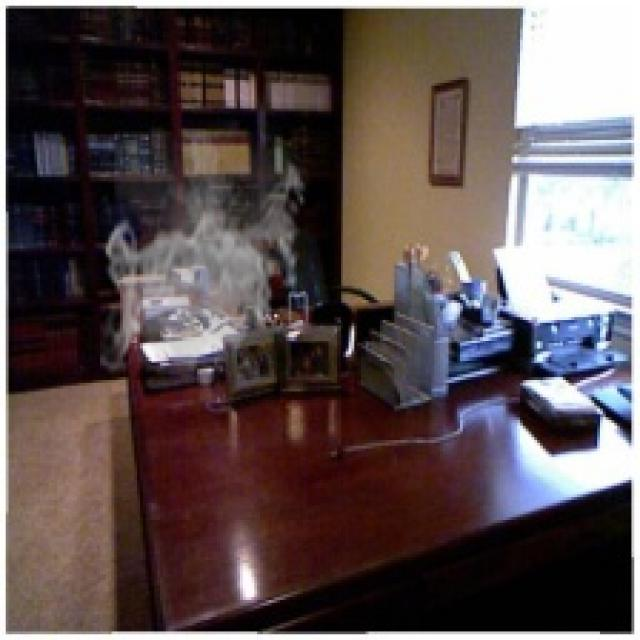smoke: (100, 131, 311, 380)
